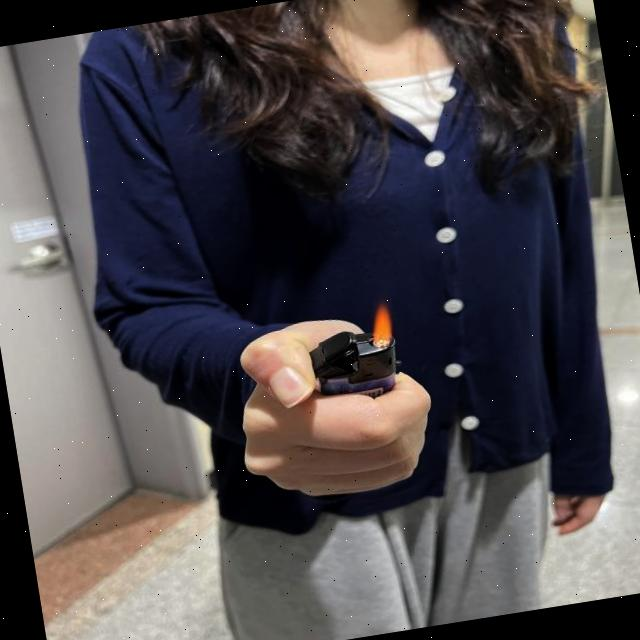fire: (366, 293, 396, 349)
